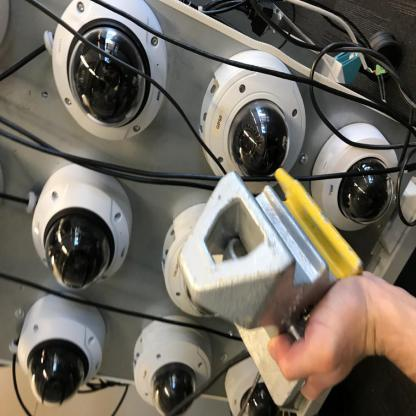Twistlock: (176, 156, 361, 400)
